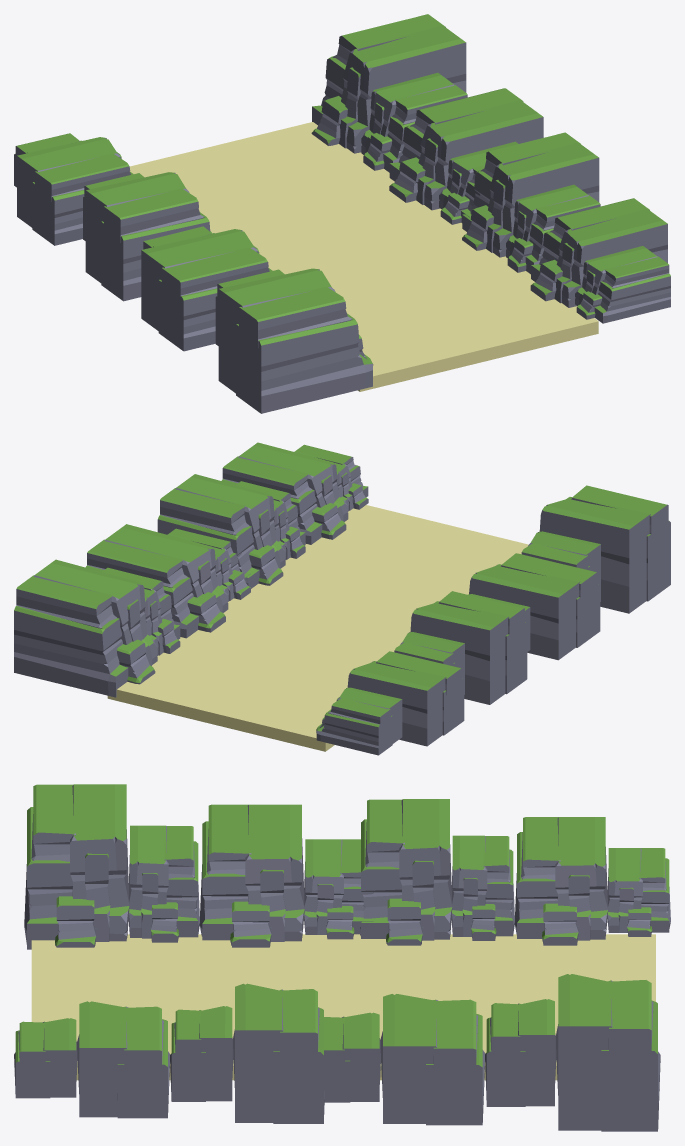
Rendered from road.fbx.
The picture shows the model from 3 angles, top to bottom: view 1: azimuth 30°, elevation 25°; view 2: azimuth 150°, elevation 25°; view 3: azimuth 270°, elevation 25°; orthographic projection. The views are drawn at different scales.
Parts seen in each view (by area): view 1: Cube, Cube.026, Cube.067, Cube.077, Cube.047, Cube.057, Cube.030, Cube.027, Cube.037, Cube.006, Cube.007, Cube.010 (+36 smaller); view 2: Cube, Cube.066, Cube.027, Cube.037, Cube.007, Cube.017, Cube.070, Cube.067, Cube.077, Cube.050, Cube.080, Cube.047 (+33 smaller); view 3: Cube, Cube.067, Cube.077, Cube.027, Cube.047, Cube.037, Cube.057, Cube.007, Cube.066, Cube.017, Cube.076, Cube.046 (+53 smaller).
Part boxes in pixels (x1=…): Cube: x1=129, y1=122, x2=598, y2=391; Cube.026: x1=236, y1=313, x2=372, y2=413; Cube.067: x1=340, y1=25, x2=466, y2=153; Cube.077: x1=417, y1=100, x2=543, y2=210; Cube.047: x1=487, y1=142, x2=599, y2=257; Cube.057: x1=556, y1=209, x2=667, y2=307; Cube.030: x1=239, y1=287, x2=352, y2=347; Cube.027: x1=218, y1=268, x2=335, y2=393; Cube.037: x1=141, y1=229, x2=258, y2=330; Cube.006: x1=101, y1=212, x2=210, y2=301; Cube.007: x1=85, y1=172, x2=189, y2=282; Cube.010: x1=104, y1=188, x2=204, y2=242; Cube: x1=107, y1=505, x2=528, y2=751; Cube.066: x1=14, y1=606, x2=128, y2=697; Cube.027: x1=539, y1=497, x2=650, y2=613; Cube.037: x1=469, y1=564, x2=579, y2=660; Cube.007: x1=410, y1=601, x2=509, y2=704; Cube.017: x1=347, y1=661, x2=446, y2=746; Cube.070: x1=16, y1=575, x2=116, y2=628; Cube.067: x1=34, y1=559, x2=157, y2=664; Cube.077: x1=104, y1=524, x2=228, y2=612; Cube.050: x1=160, y1=488, x2=249, y2=535; Cube.080: x1=87, y1=539, x2=187, y2=587; Cube.047: x1=175, y1=474, x2=285, y2=568; Cube: x1=31, y1=934, x2=655, y2=1080; Cube.067: x1=555, y1=974, x2=612, y2=1130; Cube.077: x1=380, y1=994, x2=438, y2=1123; Cube.027: x1=70, y1=784, x2=129, y2=941; Cube.047: x1=233, y1=983, x2=283, y2=1122; Cube.037: x1=245, y1=804, x2=304, y2=941; Cube.057: x1=77, y1=1001, x2=128, y2=1117; Cube.007: x1=399, y1=799, x2=452, y2=939; Cube.066: x1=601, y1=1000, x2=660, y2=1131; Cube.017: x1=555, y1=817, x2=608, y2=939; Cube.076: x1=426, y1=1014, x2=485, y2=1125; Cube.046: x1=273, y1=1007, x2=324, y2=1123.
Size of the model in its own units: 7404 by 1546 by 8421.
